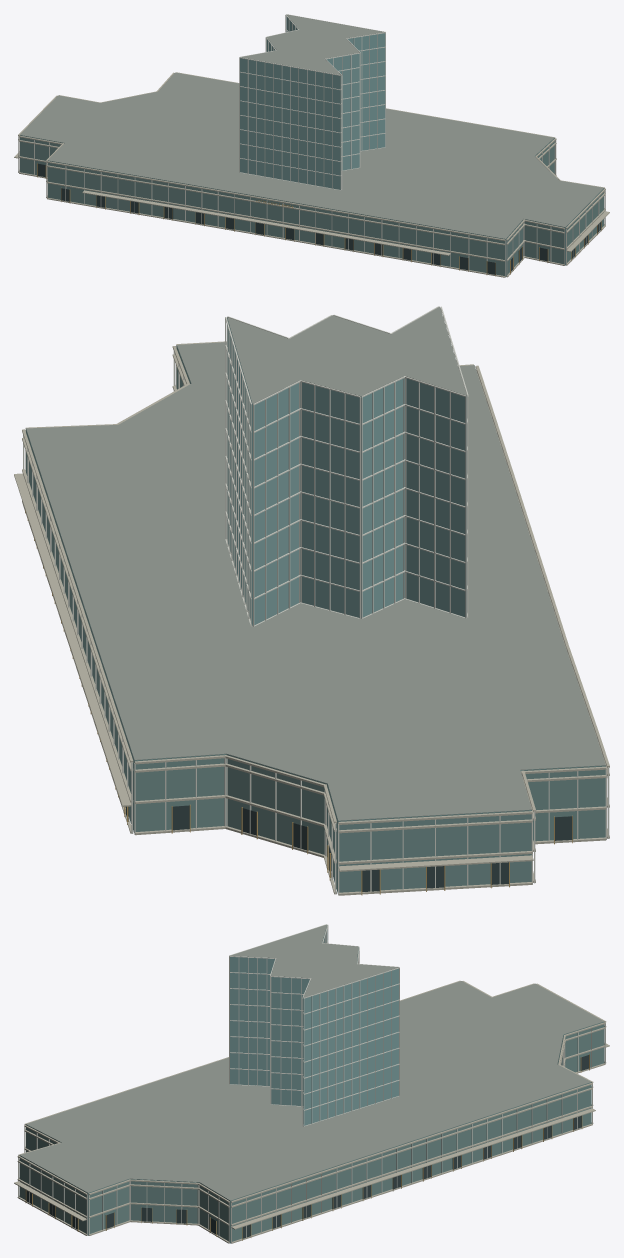
The model's file is bespoke-lotte-castle-empire-common.glb.
3 views of the same model, one above another, from view 1: azimuth 30°, elevation 25°; view 2: azimuth 150°, elevation 25°; view 3: azimuth 270°, elevation 25° (orthographic). The views are drawn at different scales.
Parts seen in each view (by area): view 1: Empire_retail_roof_slab, Empire_source_two_storey_retail_podium, Empire_central_connector, Empire_retail_pale_horizontal_fascia, Empire_connector_roof, Empire_connector_uprights, Empire_retail_vertical_frames, Empire_connector_floor_frames, Empire_retail_recessed_entrance_glass, Empire_retail_thin_canopy, Empire_retail_gold_door_jambs; view 2: Empire_retail_roof_slab, Empire_central_connector, Empire_source_two_storey_retail_podium, Empire_connector_uprights, Empire_retail_pale_horizontal_fascia, Empire_connector_roof, Empire_connector_floor_frames, Empire_retail_vertical_frames, Empire_retail_thin_canopy, Empire_retail_recessed_entrance_glass, Empire_retail_gold_door_jambs; view 3: Empire_retail_roof_slab, Empire_central_connector, Empire_source_two_storey_retail_podium, Empire_retail_pale_horizontal_fascia, Empire_connector_roof, Empire_connector_uprights, Empire_retail_vertical_frames, Empire_connector_floor_frames, Empire_retail_recessed_entrance_glass, Empire_retail_thin_canopy, Empire_retail_gold_door_jambs.
Boxes of the visible parts, left/top/right/bottom form: Empire_retail_roof_slab: left=20, top=72, right=603, bottom=238; Empire_source_two_storey_retail_podium: left=20, top=135, right=603, bottom=276; Empire_central_connector: left=240, top=16, right=385, bottom=189; Empire_retail_pale_horizontal_fascia: left=18, top=72, right=605, bottom=277; Empire_connector_roof: left=240, top=14, right=384, bottom=75; Empire_connector_uprights: left=239, top=15, right=385, bottom=189; Empire_retail_vertical_frames: left=18, top=136, right=605, bottom=277; Empire_connector_floor_frames: left=239, top=14, right=385, bottom=190; Empire_retail_recessed_entrance_glass: left=37, top=163, right=600, bottom=274; Empire_retail_thin_canopy: left=14, top=151, right=609, bottom=255; Empire_retail_gold_door_jambs: left=37, top=163, right=601, bottom=276; Empire_retail_roof_slab: left=26, top=342, right=605, bottom=820; Empire_central_connector: left=227, top=318, right=466, bottom=625; Empire_source_two_storey_retail_podium: left=26, top=345, right=605, bottom=893; Empire_connector_uprights: left=225, top=308, right=468, bottom=626; Empire_retail_pale_horizontal_fascia: left=22, top=341, right=609, bottom=895; Empire_connector_roof: left=227, top=307, right=466, bottom=403; Empire_connector_floor_frames: left=225, top=306, right=468, bottom=626; Empire_retail_vertical_frames: left=23, top=346, right=609, bottom=895; Empire_retail_thin_canopy: left=14, top=385, right=607, bottom=871; Empire_retail_recessed_entrance_glass: left=126, top=805, right=572, bottom=891; Empire_retail_gold_door_jambs: left=25, top=510, right=572, bottom=895; Empire_retail_roof_slab: left=20, top=981, right=603, bottom=1200; Empire_central_connector: left=230, top=925, right=398, bottom=1125; Empire_source_two_storey_retail_podium: left=19, top=1022, right=604, bottom=1243; Empire_retail_pale_horizontal_fascia: left=17, top=980, right=606, bottom=1243; Empire_connector_roof: left=230, top=924, right=398, bottom=997; Empire_connector_uprights: left=229, top=926, right=399, bottom=1126; Empire_retail_vertical_frames: left=18, top=1022, right=605, bottom=1243; Empire_connector_floor_frames: left=229, top=924, right=399, bottom=1126; Empire_retail_recessed_entrance_glass: left=26, top=1055, right=588, bottom=1238; Empire_retail_thin_canopy: left=14, top=1043, right=609, bottom=1229; Empire_retail_gold_door_jambs: left=25, top=1054, right=589, bottom=1240.
Bounding box in the file's own units: 89.44 × 32.06 × 101.
